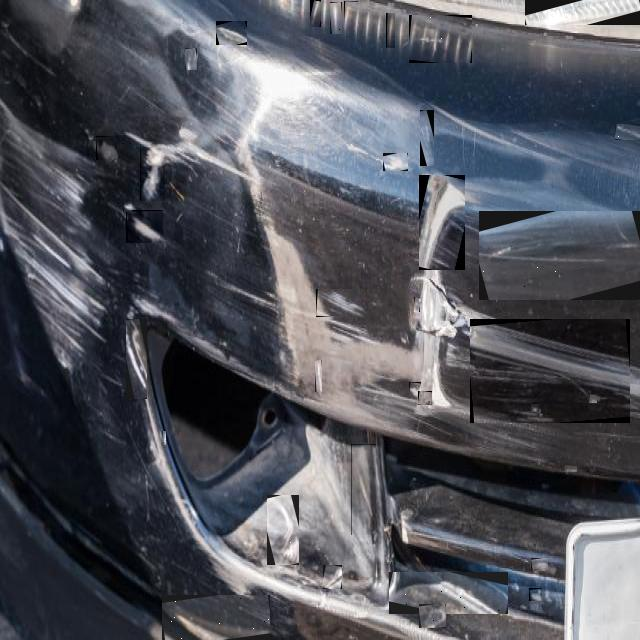Dent: (470, 319, 630, 423), (479, 211, 640, 300), (389, 572, 508, 614), (162, 595, 270, 640), (419, 175, 465, 270), (409, 15, 472, 63), (525, 0, 640, 25), (351, 444, 376, 535), (267, 495, 299, 565), (126, 319, 147, 399), (316, 290, 365, 320), (140, 147, 165, 201), (126, 210, 163, 243), (420, 110, 434, 166), (216, 21, 247, 45), (419, 604, 446, 628), (619, 226, 634, 261), (96, 136, 117, 160), (323, 565, 342, 589), (383, 153, 408, 171), (344, 1, 358, 30), (615, 124, 640, 140), (330, 2, 342, 34), (386, 13, 395, 50), (310, 0, 321, 27), (453, 30, 461, 63), (185, 48, 197, 70), (464, 30, 472, 61), (315, 360, 322, 392), (531, 558, 548, 571), (418, 391, 432, 405), (416, 34, 433, 45), (492, 230, 515, 238), (409, 382, 421, 397), (529, 588, 542, 601), (400, 331, 408, 343), (564, 465, 577, 472), (123, 202, 132, 212), (414, 297, 420, 312), (589, 394, 597, 403), (531, 403, 539, 412), (162, 432, 166, 444)
